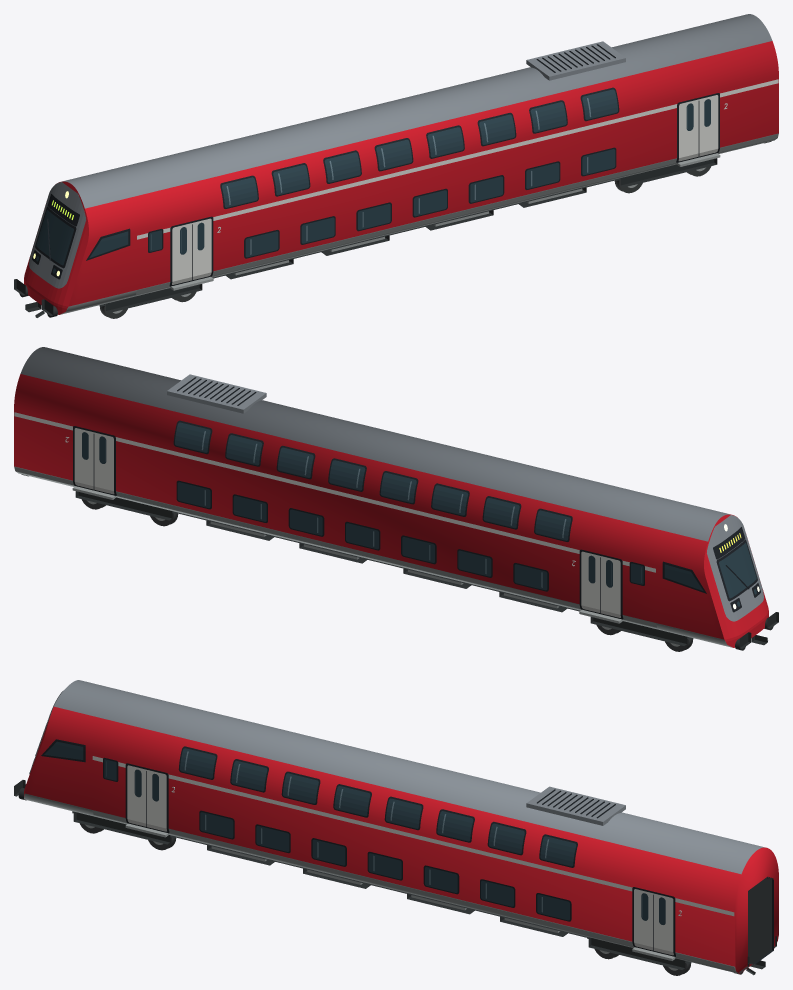
Rendered from driving_trailer.glb.
3 views of the same model, one above another, from view 1: azimuth 30°, elevation 25°; view 2: azimuth 150°, elevation 25°; view 3: azimuth 330°, elevation 25° (orthographic).
Parts seen in each view (by area): view 1: r3_continuous_rounded_shell.002, r3_skirt_driving_trailer_-1, r3_white_belt_driving_trailer_-1, r3_door_leaf_driving_trailer_-1_1, r3_door_leaf_driving_trailer_-1_0, r3_low_profile_hvac.002, r3_cab_grey_surround, r3_crowned_front_surface, r3_cab_panoramic_glass, r3_driving_trailer_bogie_0_sideframe_-1, r3_driving_trailer_bogie_1_sideframe_-1, r3_driving_trailer_upper_-1_4_pane (+15 smaller); view 2: r3_continuous_rounded_shell.002, r3_skirt_driving_trailer_1, r3_white_belt_driving_trailer_1, r3_door_leaf_driving_trailer_1_1, r3_door_leaf_driving_trailer_1_0, r3_low_profile_hvac.002, r3_cab_grey_surround, r3_crowned_front_surface, r3_cab_panoramic_glass, r3_driving_trailer_bogie_0, r3_driving_trailer_bogie_1, r3_driving_trailer_upper_1_4_pane (+15 smaller); view 3: r3_continuous_rounded_shell.002, r3_skirt_driving_trailer_-1, r3_white_belt_driving_trailer_-1, r3_door_leaf_driving_trailer_-1_1, r3_door_leaf_driving_trailer_-1_0, r3_low_profile_hvac.002, r3_bellows_driving_trailer_1_4, r3_driving_trailer_bogie_0_sideframe_-1, r3_driving_trailer_bogie_1_sideframe_-1, r3_driving_trailer_upper_-1_7_pane, r3_driving_trailer_upper_-1_3_pane, r3_driving_trailer_upper_-1_1_pane (+13 smaller).
Part boxes in pixels (box(x1,y1,x2,y2)): r3_continuous_rounded_shell.002: box(60, 14, 778, 314); r3_skirt_driving_trailer_-1: box(136, 134, 778, 294); r3_white_belt_driving_trailer_-1: box(137, 79, 778, 239); r3_door_leaf_driving_trailer_-1_1: box(678, 95, 718, 161); r3_door_leaf_driving_trailer_-1_0: box(172, 218, 211, 284); r3_low_profile_hvac.002: box(526, 41, 625, 80); r3_cab_grey_surround: box(29, 182, 85, 288); r3_crowned_front_surface: box(24, 181, 88, 314); r3_cab_panoramic_glass: box(36, 209, 73, 265); r3_driving_trailer_bogie_0_sideframe_-1: box(106, 284, 202, 312); r3_driving_trailer_bogie_1_sideframe_-1: box(620, 158, 717, 187); r3_driving_trailer_upper_-1_4_pane: box(427, 127, 463, 157); r3_continuous_rounded_shell.002: box(14, 347, 732, 647); r3_skirt_driving_trailer_1: box(14, 467, 656, 627); r3_white_belt_driving_trailer_1: box(14, 412, 655, 572); r3_door_leaf_driving_trailer_1_1: box(74, 428, 114, 494); r3_door_leaf_driving_trailer_1_0: box(581, 551, 620, 617); r3_low_profile_hvac.002: box(167, 374, 266, 413); r3_cab_grey_surround: box(707, 515, 763, 621); r3_crowned_front_surface: box(704, 514, 768, 647); r3_cab_panoramic_glass: box(719, 542, 756, 598); r3_driving_trailer_bogie_0: box(590, 617, 693, 651); r3_driving_trailer_bogie_1: box(75, 491, 178, 526); r3_driving_trailer_upper_1_4_pane: box(329, 460, 365, 490); r3_continuous_rounded_shell.002: box(24, 680, 778, 973); r3_skirt_driving_trailer_-1: box(93, 810, 734, 971); r3_white_belt_driving_trailer_-1: box(92, 756, 734, 916); r3_door_leaf_driving_trailer_-1_1: box(634, 889, 673, 955); r3_door_leaf_driving_trailer_-1_0: box(127, 765, 166, 831); r3_low_profile_hvac.002: box(526, 786, 625, 825); r3_bellows_driving_trailer_1_4: box(753, 878, 773, 964); r3_driving_trailer_bogie_0_sideframe_-1: box(73, 811, 170, 844); r3_driving_trailer_bogie_1_sideframe_-1: box(588, 937, 684, 969); r3_driving_trailer_upper_-1_7_pane: box(540, 836, 576, 866); r3_driving_trailer_upper_-1_3_pane: box(334, 786, 370, 816); r3_driving_trailer_upper_-1_1_pane: box(231, 760, 267, 791).
Bounding box in the file's own units: 26.93 × 4.76 × 3.04.
